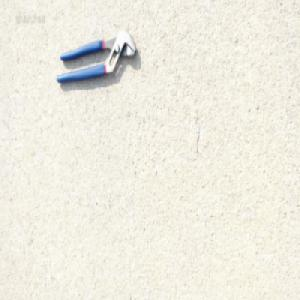Pliers: (54, 28, 136, 85)
